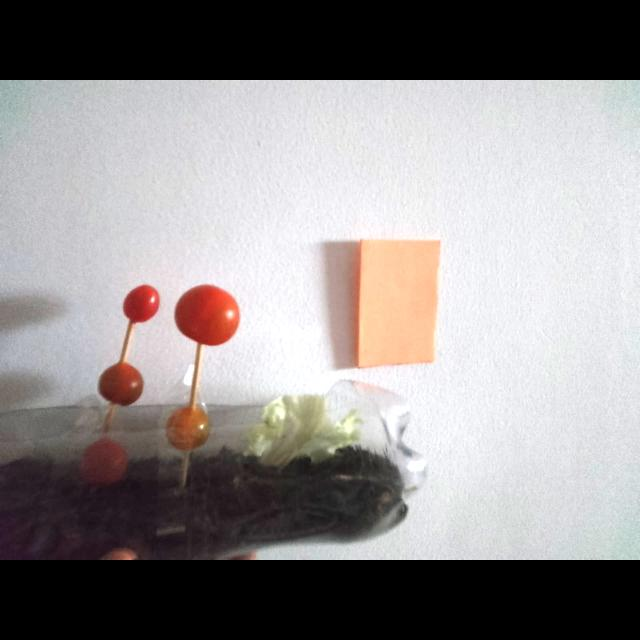card: (358, 239, 439, 367)
fruit_maturation: (167, 407, 209, 452)
fully_grown: (174, 285, 239, 346), (79, 437, 127, 485), (98, 362, 144, 406), (123, 286, 159, 323)
